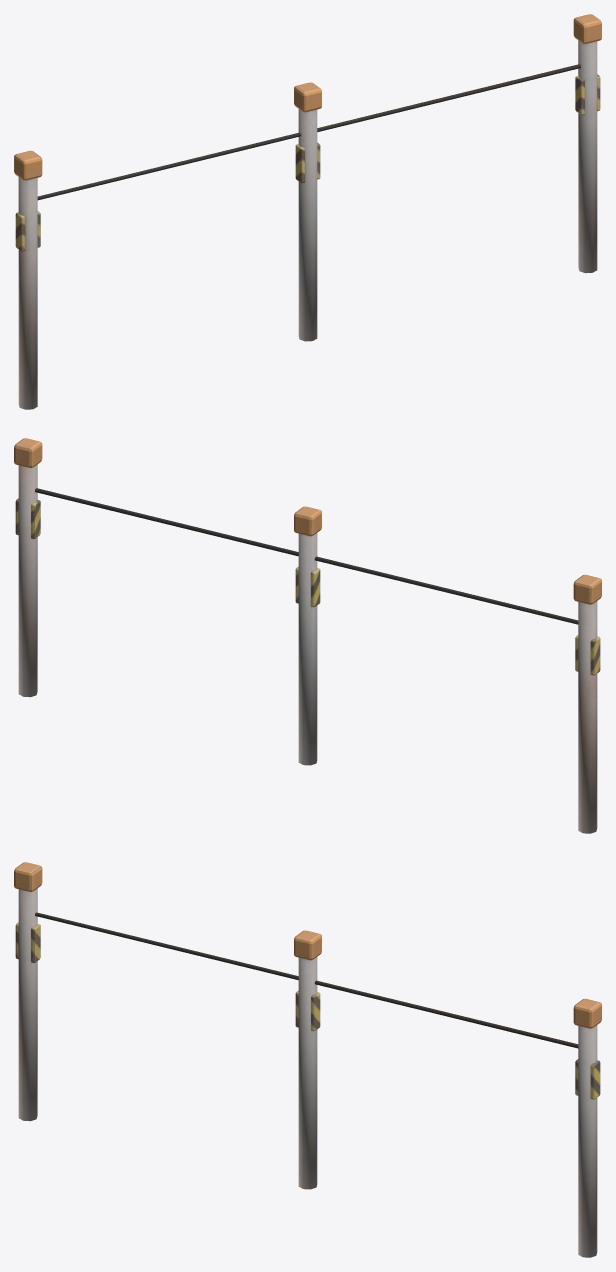
Rendered from fence.glb.
The picture shows the model from 3 angles, top to bottom: view 1: azimuth 30°, elevation 25°; view 2: azimuth 150°, elevation 25°; view 3: azimuth 330°, elevation 25°; orthographic projection.
Parts seen in each view (by area): view 1: fence; view 2: fence; view 3: fence.
Part boxes in pixels (x1,y1,x2,y2): fence: (14, 14, 601, 409); fence: (14, 438, 601, 833); fence: (14, 862, 601, 1257).
Size of the model in its own units: 2.07 by 0.855 by 0.07.
Materials: 1 (1 with a texture image).
